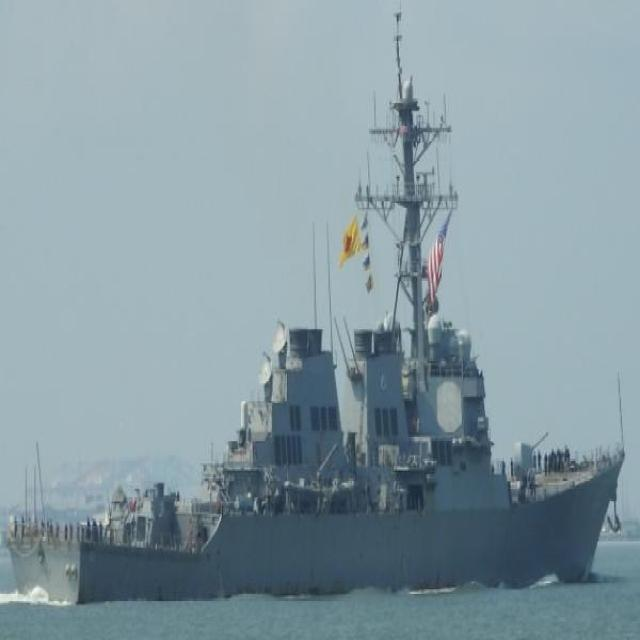Military: (5, 54, 623, 602)
